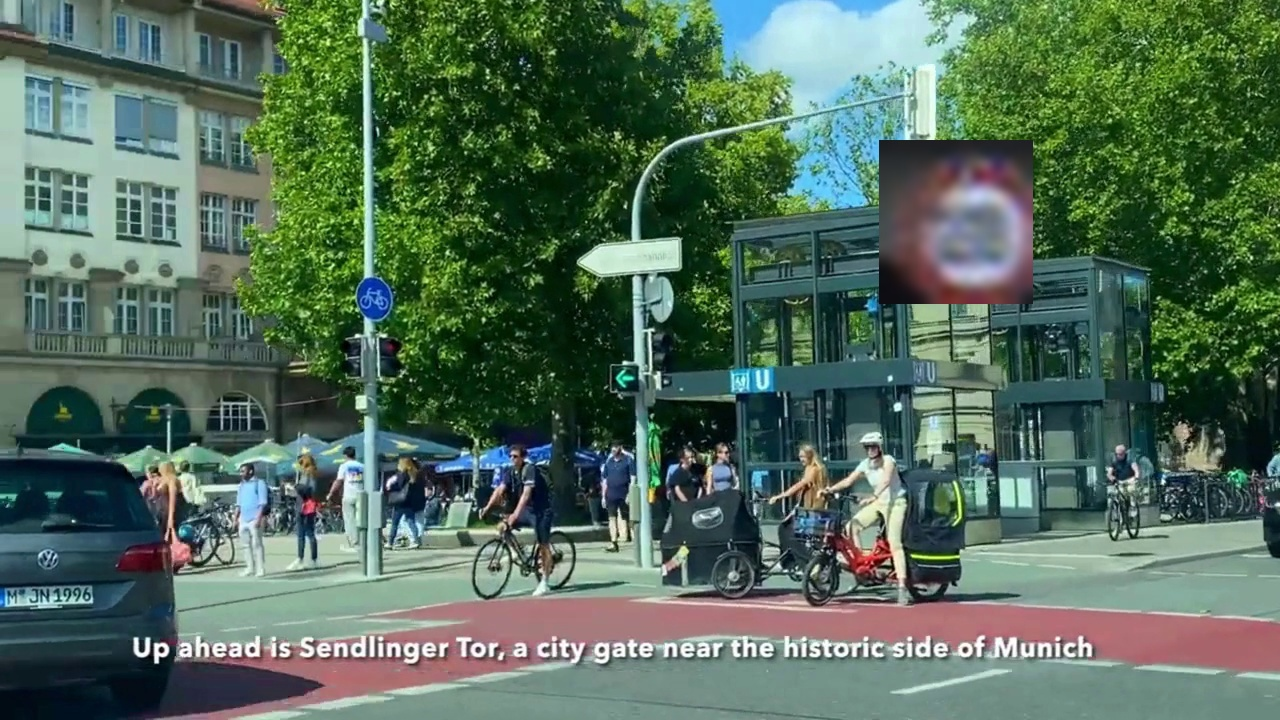Speed 120: (879, 140, 1033, 304)
